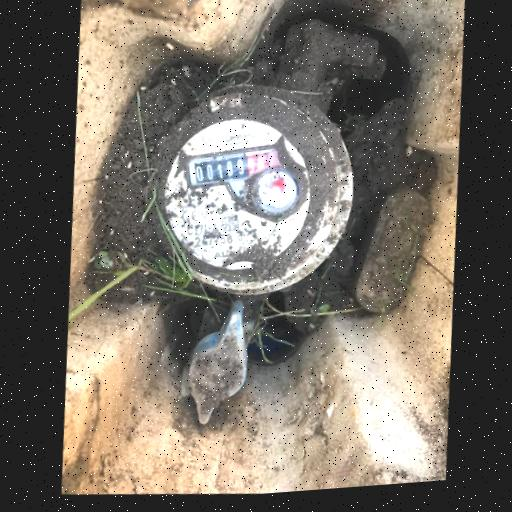0: (192, 160, 208, 184), (203, 159, 217, 183)
1: (213, 159, 228, 182)
6: (254, 151, 271, 175)
7: (264, 150, 280, 170)
8: (222, 156, 237, 180)
9: (232, 155, 249, 179), (243, 154, 260, 178)
border_water_meter_number: (182, 136, 283, 196)
